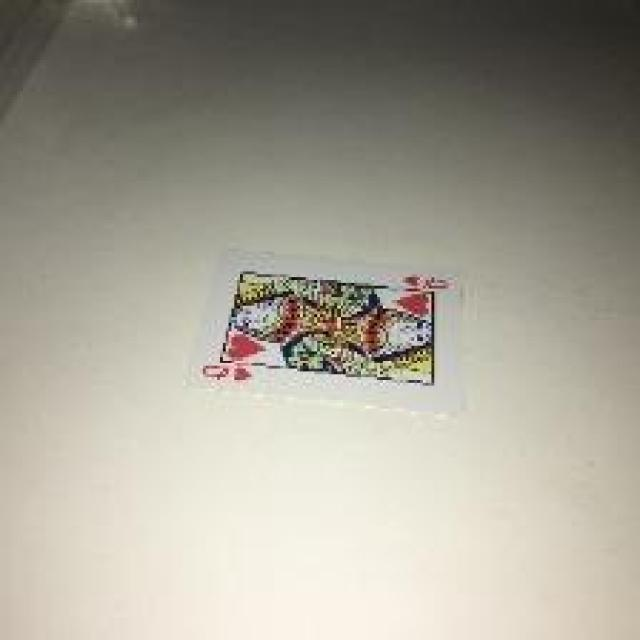Queen of hearts: (186, 244, 470, 416)
